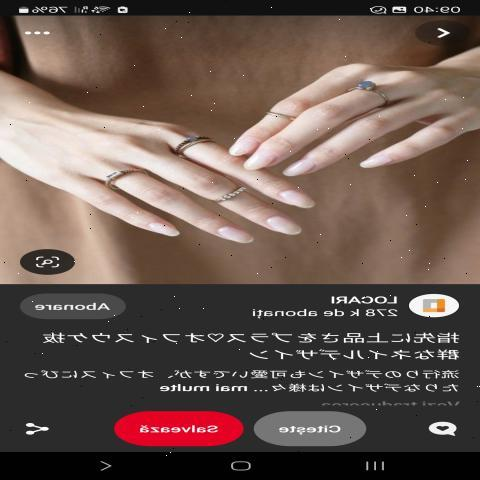Hands: (0, 122, 314, 270), (225, 40, 480, 200)
